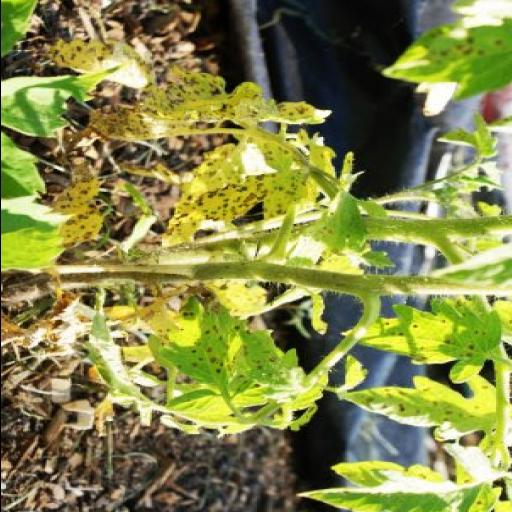disease_tomato: (148, 293, 314, 431), (81, 70, 335, 150), (157, 140, 300, 248), (342, 379, 506, 452), (379, 16, 512, 104), (354, 299, 500, 379)
